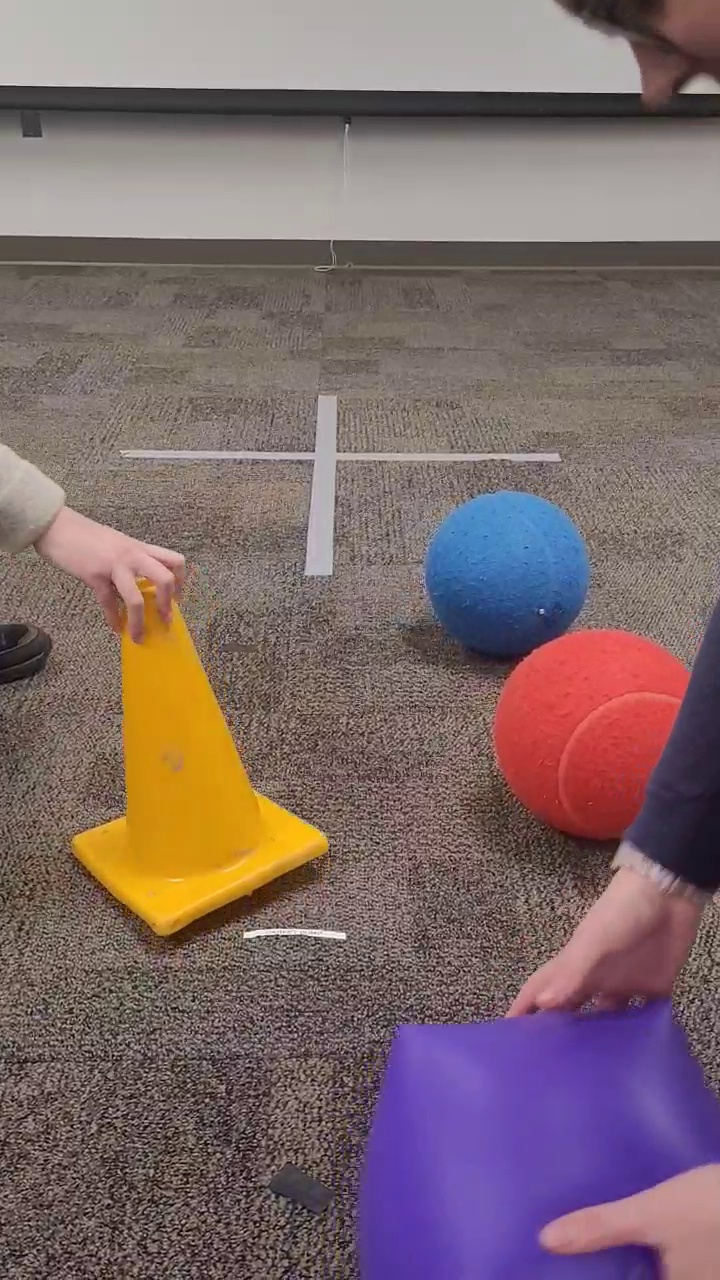ball: (485, 625, 698, 846), (422, 484, 598, 664)
cone: (57, 565, 335, 945)
cube: (347, 994, 715, 1277)
face: (549, 2, 719, 136)
foot: (1, 610, 61, 691)
hand: (504, 593, 720, 1020), (1, 434, 193, 647), (532, 1153, 719, 1279)
